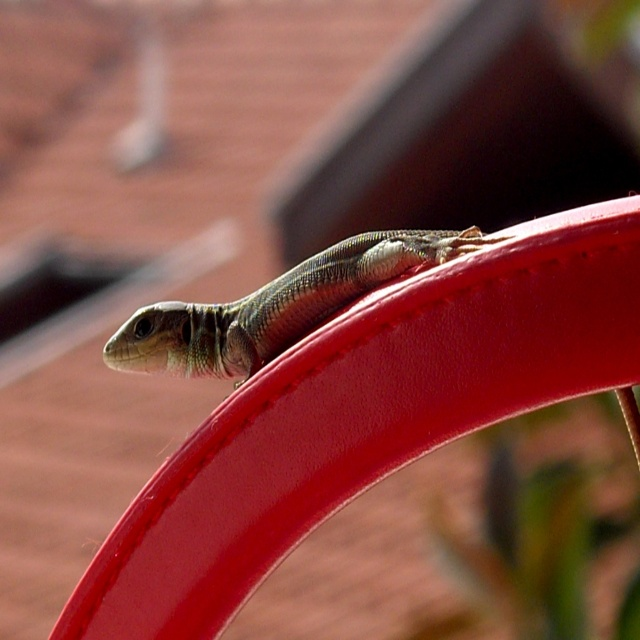Lizard: (86, 217, 640, 573)
